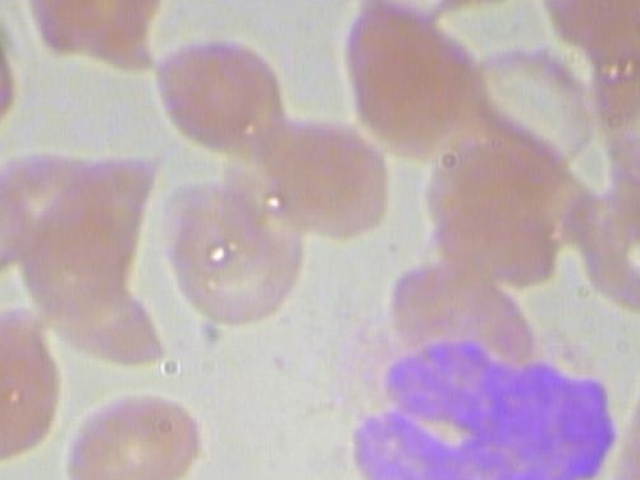RBC: (152, 168, 317, 335), (418, 138, 571, 294), (248, 111, 397, 239), (148, 37, 292, 159), (60, 375, 213, 480), (19, 0, 175, 90), (0, 301, 75, 471), (564, 194, 640, 322), (0, 6, 26, 141)
WBC: (272, 301, 640, 480)
